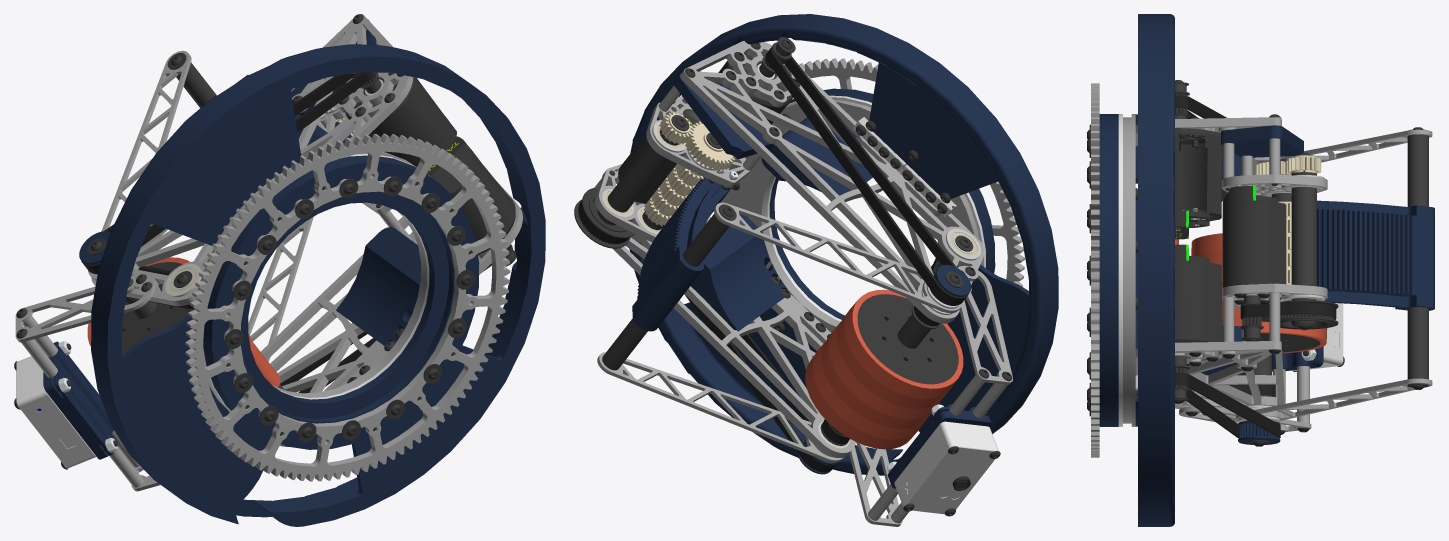
The picture shows the model from 3 angles, left to right: view 1: azimuth 30°, elevation 25°; view 2: azimuth 150°, elevation 25°; view 3: azimuth 270°, elevation 25°; orthographic projection. The views are drawn at different scales.
Visible parts, largest first — view 1: W26-ST-P007, W26-ST-3DP011, W26-ST-3DP001, W26-ST-3DP013, W26-ST-3DP012, W26-ST-P011 (×2), W26-ST-3DP014, W26-ST-3DP004, Kraken X60 Brushless Motor (×2), W26-ST-P012 (×2), id2382, W26-ST-3DP020 (+9 smaller); view 2: W26-ST-P011 (×2), W26-ST-3DP011, 4" Stealth Wheel (40A, 1/2" Hex Bore) (×3), W26-ST-3DP012, 184 Tooth x 9mm GT2 3mm Belt (×2), W26-ST-P012 (×2), id2382, W26-ST-3DP002, W26-ST-3DP004, W26-ST-3DP013, W26-ST-3DP014, W26-ST-P014 (×2) (+19 smaller); view 3: W26-ST-3DP002, W26-ST-3DP014, Kraken X60 Brushless Motor (×2), W26-ST-3DP012, W26-ST-3DP001, W26-ST-P011 (×2), Kraken X44 Brushless Motor, W26-ST-P012 (×2), W26-ST-P007, 1/2" Hex Bore Custom Spacer (0.625" OD,2.147" L) (×2), 184 Tooth x 9mm GT2 3mm Belt (×2), W26-ST-P002 (+15 smaller).
Part boxes in pixels (<box>): W26-ST-P007: <box>185,133,510,481</box>; W26-ST-3DP011: <box>91,121,250,466</box>; W26-ST-3DP001: <box>203,155,479,449</box>; W26-ST-3DP013: <box>130,398,450,526</box>; W26-ST-3DP012: <box>186,44,507,193</box>; W26-ST-P011 (×2): <box>91,14,522,446</box>; W26-ST-3DP014: <box>416,118,545,451</box>; W26-ST-3DP004: <box>336,227,420,345</box>; Kraken X60 Brushless Motor (×2): <box>345,72,515,254</box>; W26-ST-P012 (×2): <box>88,50,313,361</box>; id2382: <box>16,356,96,468</box>; W26-ST-3DP020: <box>43,341,117,459</box>; W26-ST-P011 (×2): <box>612,41,983,457</box>; W26-ST-3DP011: <box>907,87,1058,416</box>; 4" Stealth Wheel (40A, 1/2" Hex Bore) (×3): <box>805,289,963,449</box>; W26-ST-3DP012: <box>660,14,967,163</box>; 184 Tooth x 9mm GT2 3mm Belt (×2): <box>684,46,968,472</box>; W26-ST-P012 (×2): <box>597,202,962,462</box>; id2382: <box>894,421,998,514</box>; W26-ST-3DP002: <box>632,169,732,331</box>; W26-ST-3DP004: <box>691,214,787,331</box>; W26-ST-3DP013: <box>715,321,1021,475</box>; W26-ST-3DP014: <box>629,85,784,402</box>; W26-ST-P014 (×2): <box>849,265,1012,526</box>; W26-ST-3DP002: <box>1317,200,1434,310</box>; W26-ST-3DP014: <box>1135,228,1174,523</box>; Kraken X60 Brushless Motor (×2): <box>1175,128,1222,357</box>; W26-ST-3DP012: <box>1135,14,1174,228</box>; W26-ST-3DP001: <box>1099,114,1118,426</box>; W26-ST-P011 (×2): <box>1135,117,1284,408</box>; Kraken X44 Brushless Motor: <box>1222,186,1286,287</box>; W26-ST-P012 (×2): <box>1235,129,1432,420</box>; W26-ST-P007: <box>1091,83,1099,457</box>; 1/2" Hex Bore Custom Spacer (0.625" OD,2.147" L) (×2): <box>1407,134,1428,379</box>; 184 Tooth x 9mm GT2 3mm Belt (×2): <box>1175,95,1280,438</box>; W26-ST-P002: <box>1123,117,1131,423</box>.
Size of what is drawn, in the model's own units: 0.4003 by 0.3826 by 0.2595.
